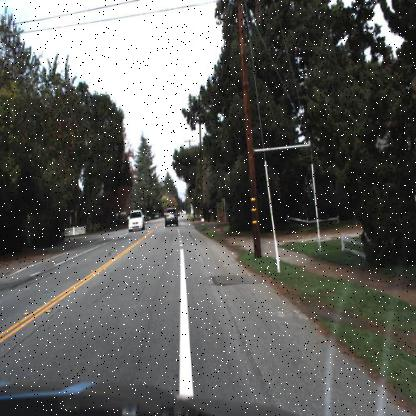car: (126, 208, 144, 232), (164, 205, 180, 229)
